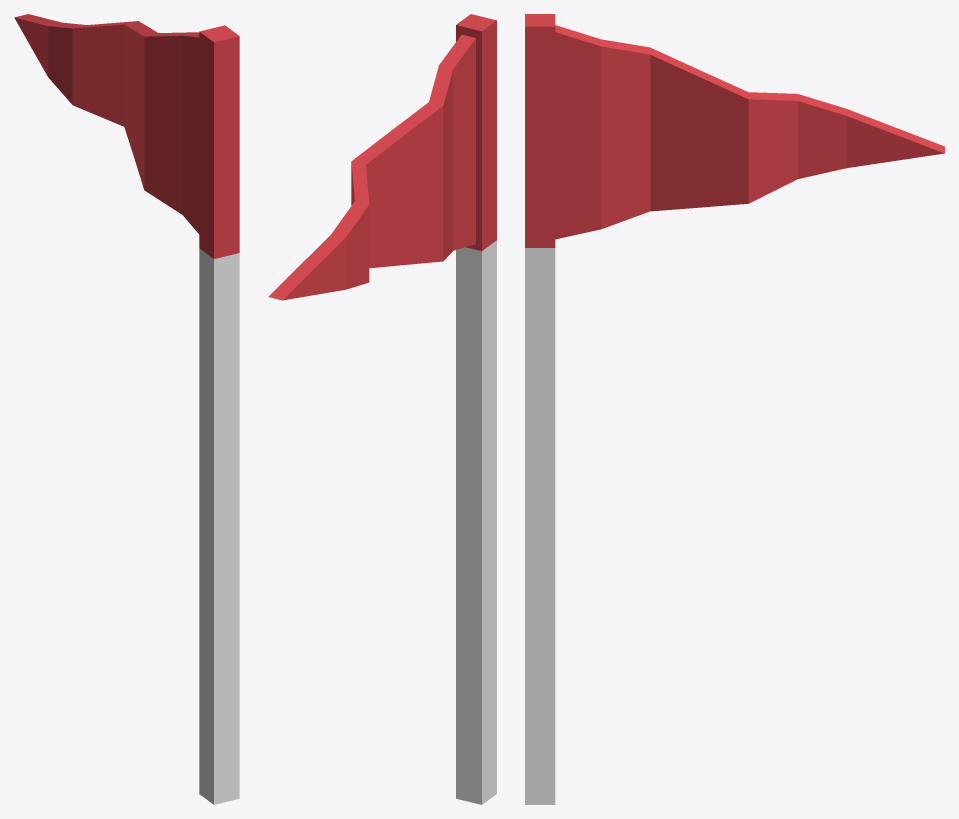
File: golfflag.glb
3 views of the same model, side by side, from view 1: azimuth 30°, elevation 25°; view 2: azimuth 150°, elevation 25°; view 3: azimuth 270°, elevation 25° (orthographic). The views are drawn at different scales.
Visible parts, largest first — view 1: Cube, Cube.001; view 2: Cube, Cube.001; view 3: Cube.001, Cube.
Part boxes in pixels (x1=…): Cube: x1=199, y1=25, x2=239, y2=804; Cube.001: x1=14, y1=14, x2=199, y2=234; Cube: x1=456, y1=14, x2=496, y2=804; Cube.001: x1=268, y1=34, x2=475, y2=300; Cube.001: x1=555, y1=25, x2=944, y2=239; Cube: x1=525, y1=14, x2=555, y2=804.
Size of the model in its own units: 0.3758 by 6.45 by 3.15.
